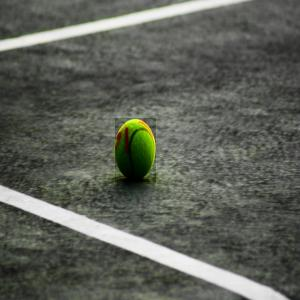TennisBall: (116, 119, 158, 184)
